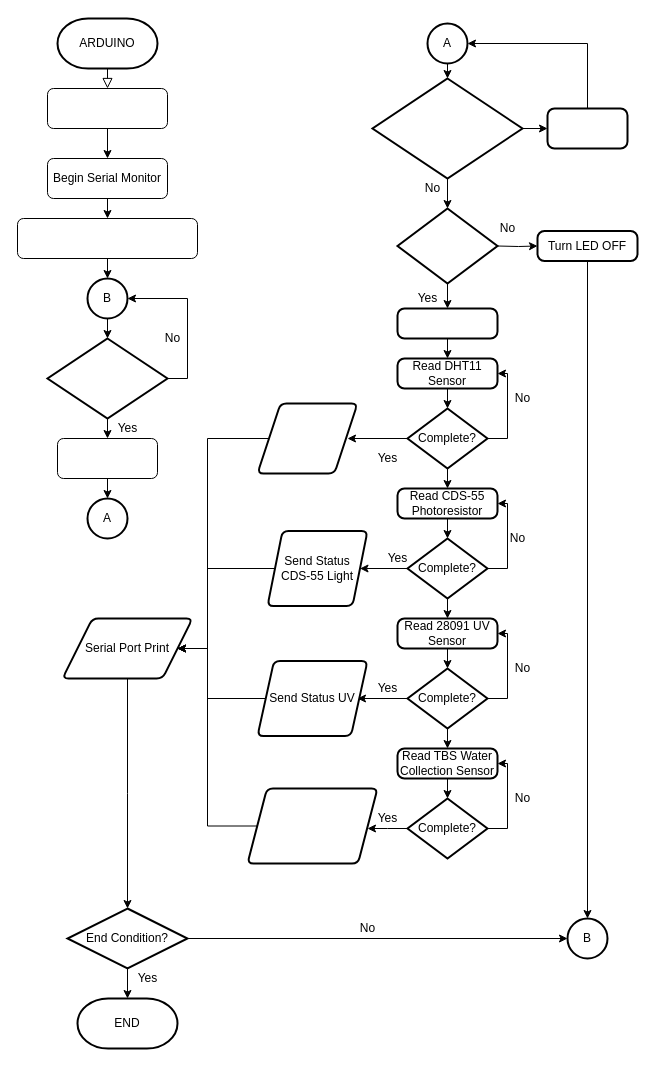
Image size: 656x1066. Some labels were removed from this diagram. Here are the shapes that lost their labels. From the top down, the centre of each, then its label:
(x=107, y=108): Set output on LED Pin #13
(x=447, y=128): Information at Serial Monitor?
(x=587, y=128): Save byte into string
(x=107, y=238): Turn LED ON for 0.5 seconds, turn off (BOOT UP INDICATION)
(x=447, y=245): Is String "ON?
(x=447, y=323): Turn LED ON
(x=107, y=378): Bytes at Serial Monitor
(x=107, y=458): Initialize String
(x=307, y=438): Send Status Temp and Humidity
(x=312, y=825): Send Status Water Collection
